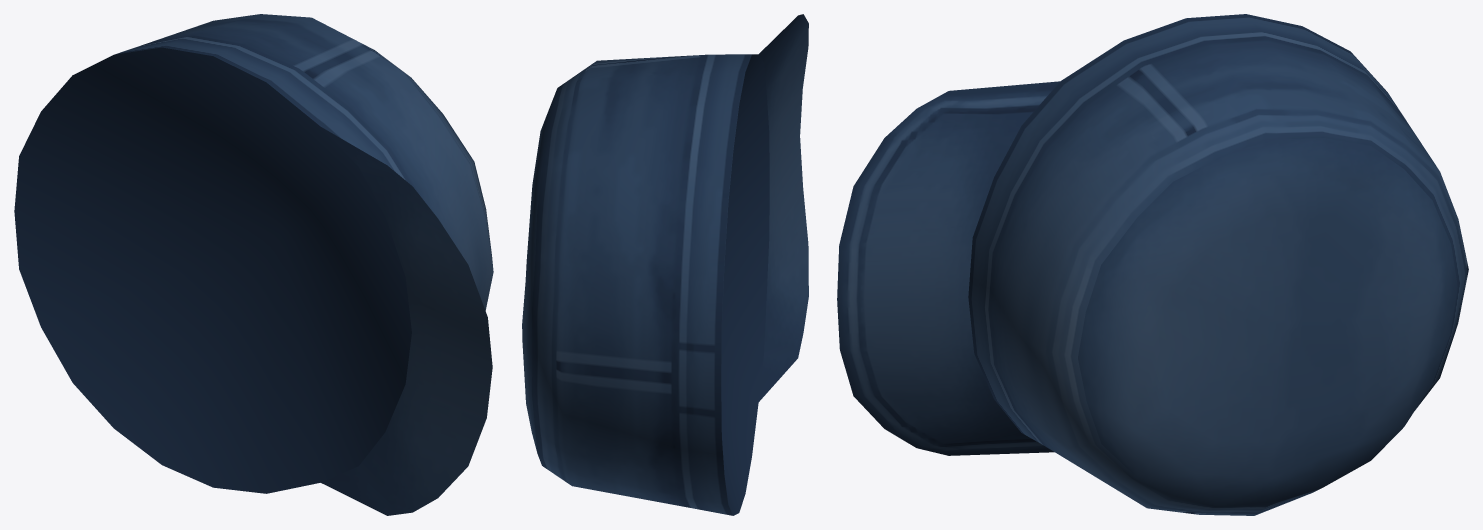
The model's file is cap_workcap.fbx.
The picture shows the model from 3 angles, left to right: view 1: azimuth 30°, elevation 25°; view 2: azimuth 150°, elevation 25°; view 3: azimuth 270°, elevation 25°; orthographic projection. The views are drawn at different scales.
Visible parts, largest first — view 1: cap_workcap_mdl; view 2: cap_workcap_mdl; view 3: cap_workcap_mdl.
Boxes of the visible parts, <box> form: cap_workcap_mdl: <box>14,14,493,515</box>; cap_workcap_mdl: <box>522,14,808,515</box>; cap_workcap_mdl: <box>837,14,1468,515</box>.
Bounding box in the file's own units: 0.0503 × 0.0661 × 0.0842.
1 material, 1 textured.
